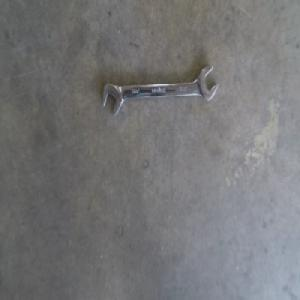Wrench: (98, 67, 220, 121)
